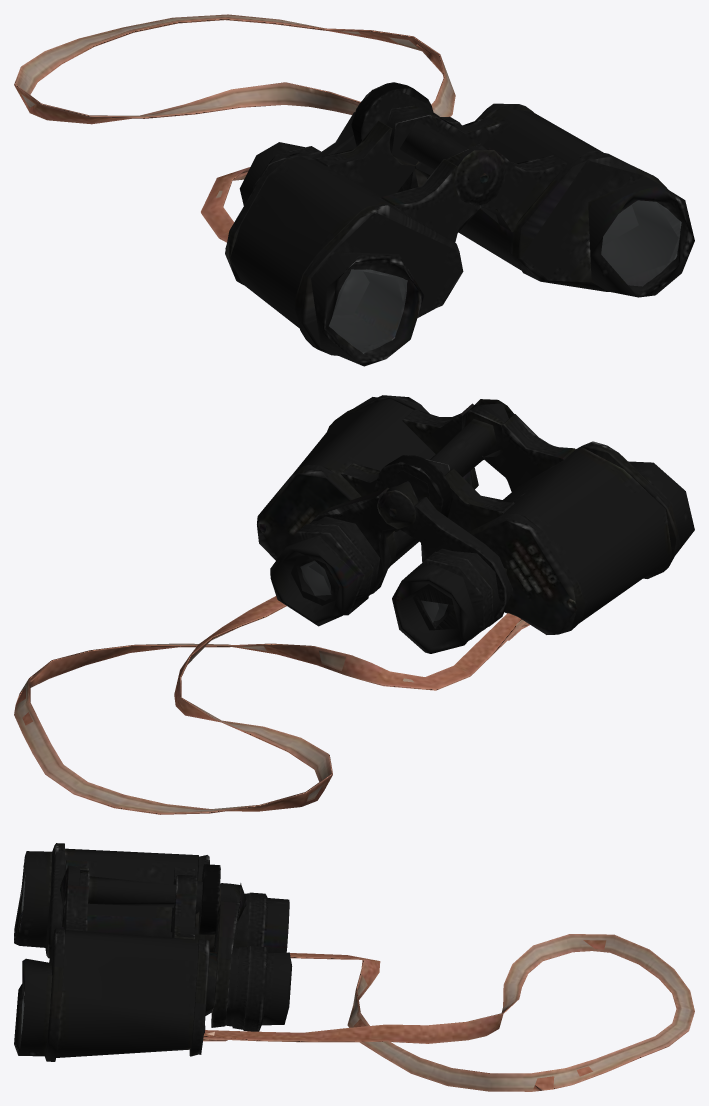
Rendered from binoculars.glb.
3 views of the same model, one above another, from view 1: azimuth 30°, elevation 25°; view 2: azimuth 150°, elevation 25°; view 3: azimuth 270°, elevation 25° (orthographic). The views are drawn at different scales.
Visible parts, largest first — view 1: binoculars, binoculars_glass; view 2: binoculars, binoculars_glass; view 3: binoculars.
Part boxes in pixels (bbox=[...]): binoculars: bbox=[14, 14, 694, 366]; binoculars_glass: bbox=[329, 201, 681, 353]; binoculars: bbox=[14, 395, 694, 814]; binoculars_glass: bbox=[301, 561, 447, 621]; binoculars: bbox=[14, 843, 694, 1091].
Size of the model in its own units: 0.1665 by 0.0659 by 0.2879.
2 materials, 1 textured.
